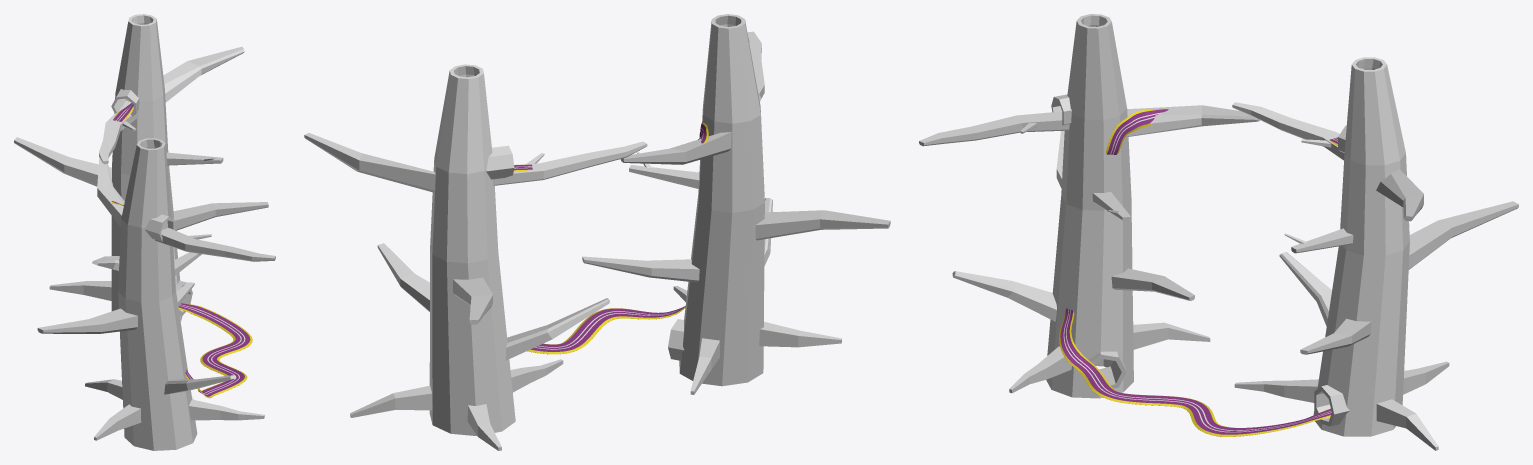
The model's file is oak-highway-003.fbx.
3 views of the same model, side by side, from view 1: azimuth 30°, elevation 25°; view 2: azimuth 150°, elevation 25°; view 3: azimuth 270°, elevation 25° (orthographic). The views are drawn at different scales.
Visible parts, largest first — view 1: Exit Tree, Entry Tree, Road_Segment.001; view 2: Entry Tree, Exit Tree, Road_Segment.001; view 3: Entry Tree, Exit Tree, Road_Segment.001, Road_Segment.003.
Boxes of the visible parts, x1,y1,x2,y2 form: Exit Tree: [37, 138, 275, 450]; Entry Tree: [14, 14, 268, 321]; Road_Segment.001: [178, 303, 252, 398]; Entry Tree: [304, 64, 647, 450]; Exit Tree: [582, 14, 890, 394]; Road_Segment.001: [527, 306, 685, 354]; Entry Tree: [1232, 57, 1518, 450]; Exit Tree: [919, 14, 1260, 398]; Road_Segment.001: [1059, 308, 1331, 436]; Road_Segment.003: [1106, 108, 1168, 154].
Bounding box in the file's own units: 7414 × 6307 × 9191.
